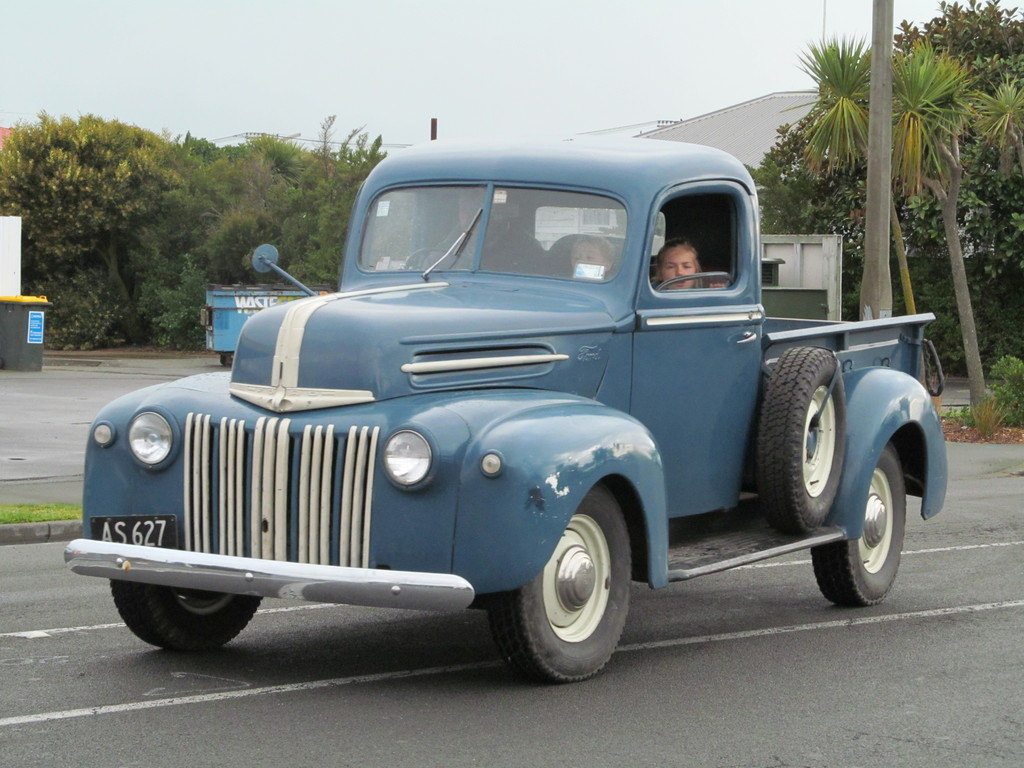Car: (58, 132, 945, 685)
